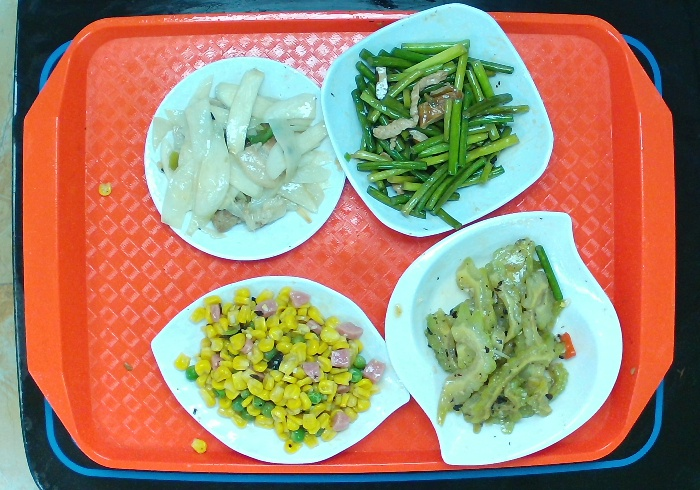RJxy-Da_Du_Pan: (148, 273, 413, 467)
RJxy-Shuang_Jiao_Pan: (386, 205, 624, 468)
RJxy-Si_Fang_Wan: (318, 1, 552, 237)
RJxy-Xiao_Yuan_Die: (143, 53, 347, 263)
